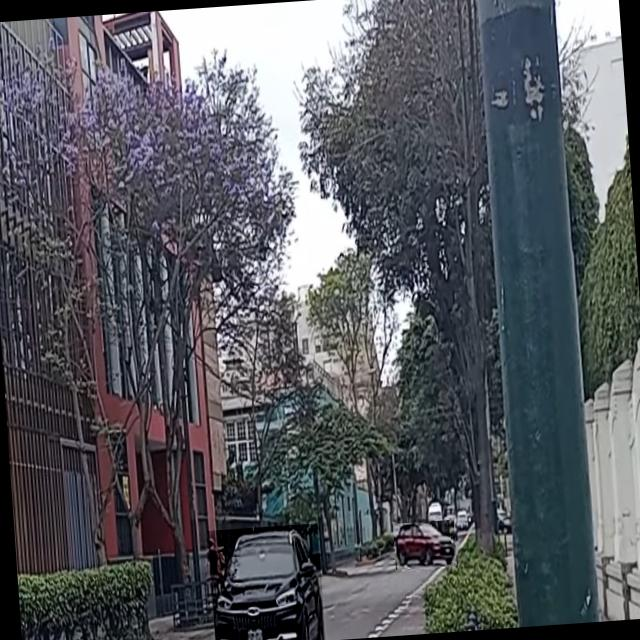car: (207, 523, 325, 640), (392, 520, 457, 570)
